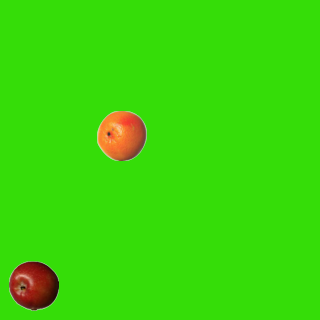Apple Braeburn: (8, 260, 58, 310)
Grapefruit Pink: (96, 110, 146, 160)
